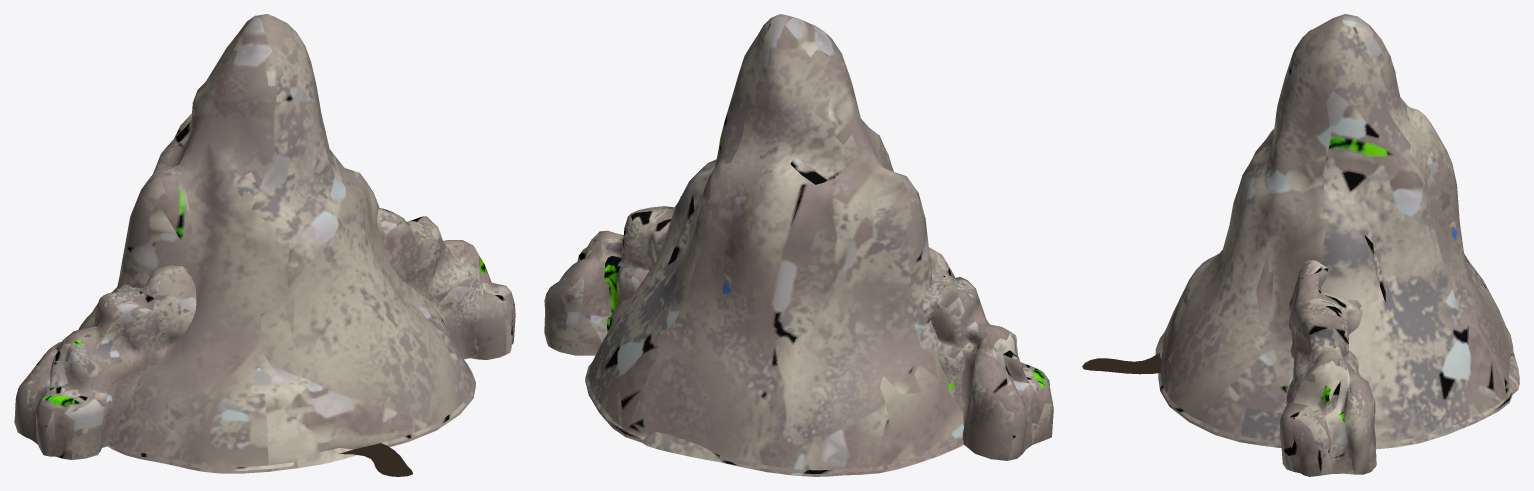
Rendered from Terrain.fbx.
3 views of the same model, side by side, from view 1: azimuth 30°, elevation 25°; view 2: azimuth 150°, elevation 25°; view 3: azimuth 270°, elevation 25° (orthographic). The views are drawn at different scales.
Visible parts, largest first — view 1: Mountain-1, MountainRange, Mountain-2, LavaRiver, MountainVolcano; view 2: Mountain-1, MountainRange, Mountain-2, MountainVolcano; view 3: Mountain-1, MountainRange, Mountain-2, LavaRiver, MountainVolcano.
Part boxes in pixels (x1=…): Mountain-1: x1=78, y1=14, x2=475, y2=473; MountainRange: x1=14, y1=208, x2=515, y2=459; Mountain-2: x1=108, y1=361, x2=475, y2=470; LavaRiver: x1=339, y1=443, x2=412, y2=476; MountainVolcano: x1=272, y1=448, x2=356, y2=470; Mountain-1: x1=585, y1=14, x2=963, y2=476; MountainRange: x1=544, y1=196, x2=1053, y2=460; Mountain-2: x1=585, y1=363, x2=963, y2=473; MountainVolcano: x1=639, y1=432, x2=735, y2=464; Mountain-1: x1=1158, y1=14, x2=1512, y2=449; MountainRange: x1=1279, y1=260, x2=1376, y2=476; Mountain-2: x1=1158, y1=328, x2=1513, y2=446; LavaRiver: x1=1082, y1=353, x2=1160, y2=374; MountainVolcano: x1=1155, y1=333, x2=1519, y2=394.
Bounding box in the file's own units: 34.92 × 28.69 × 28.87.
Materials: 4 (2 with a texture image).
